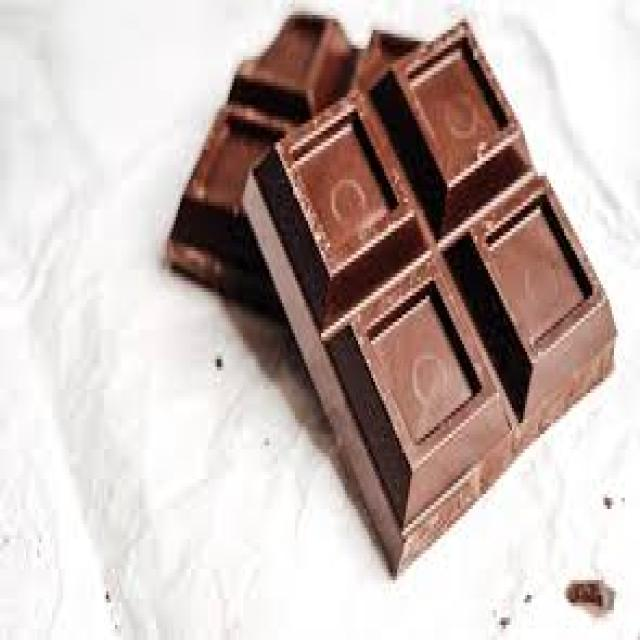Chocolate: (168, 15, 616, 582)
